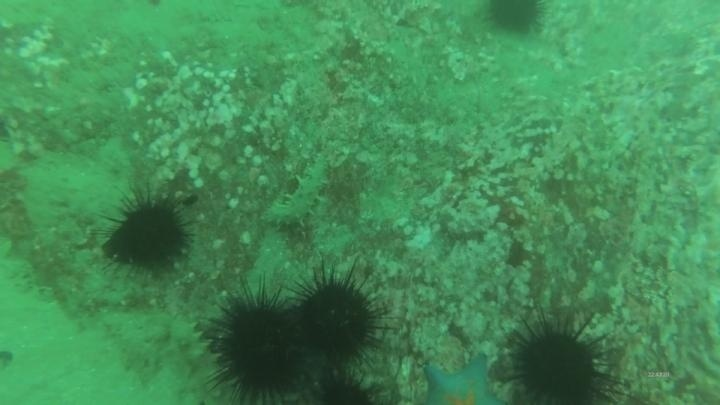echinus: (203, 282, 308, 403), (287, 263, 388, 368), (506, 313, 617, 405), (101, 191, 193, 276), (309, 368, 387, 404), (481, 1, 548, 38)
holothurian: (160, 312, 229, 396), (262, 154, 334, 232), (109, 313, 159, 382)
starfish: (419, 353, 505, 403)
